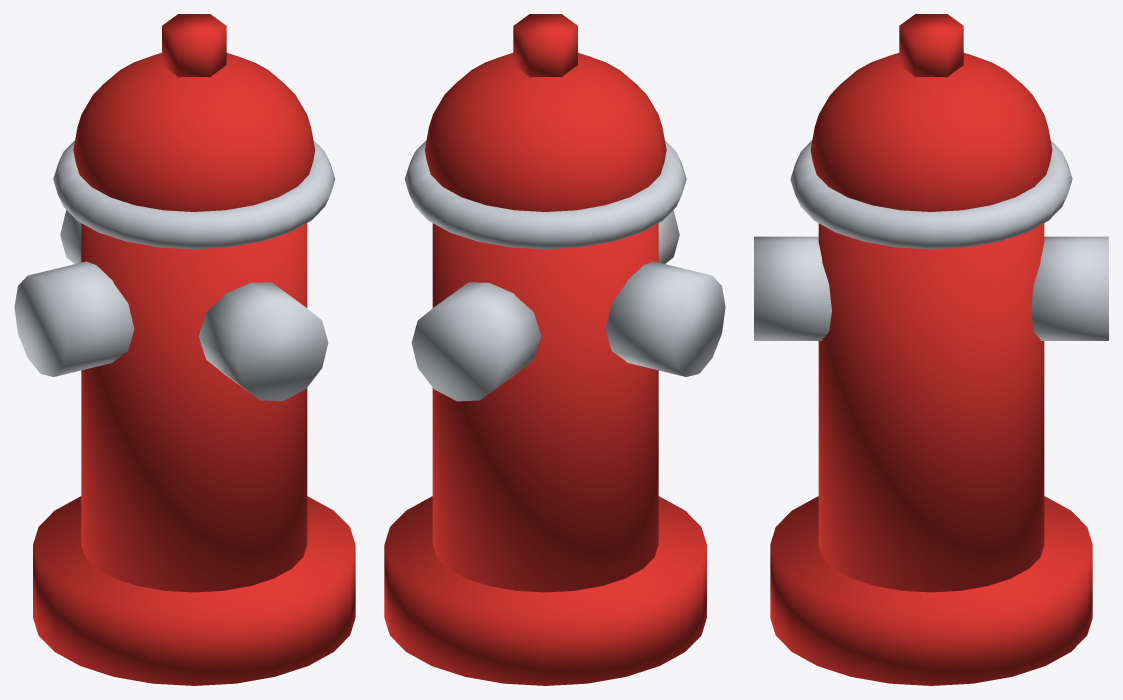
Rendered from Street_Hydrant.fbx.
3 views of the same model, side by side, from view 1: azimuth 30°, elevation 25°; view 2: azimuth 150°, elevation 25°; view 3: azimuth 270°, elevation 25° (orthographic).
Parts seen in each view (by area): view 1: Street_Hydrant; view 2: Street_Hydrant; view 3: Street_Hydrant.
Boxes of the visible parts, x1,y1,x2,y2 form: Street_Hydrant: (14, 14, 355, 685); Street_Hydrant: (384, 14, 725, 685); Street_Hydrant: (754, 14, 1108, 685).
Size of the model in its own units: 0.42 by 0.81 by 0.44.
